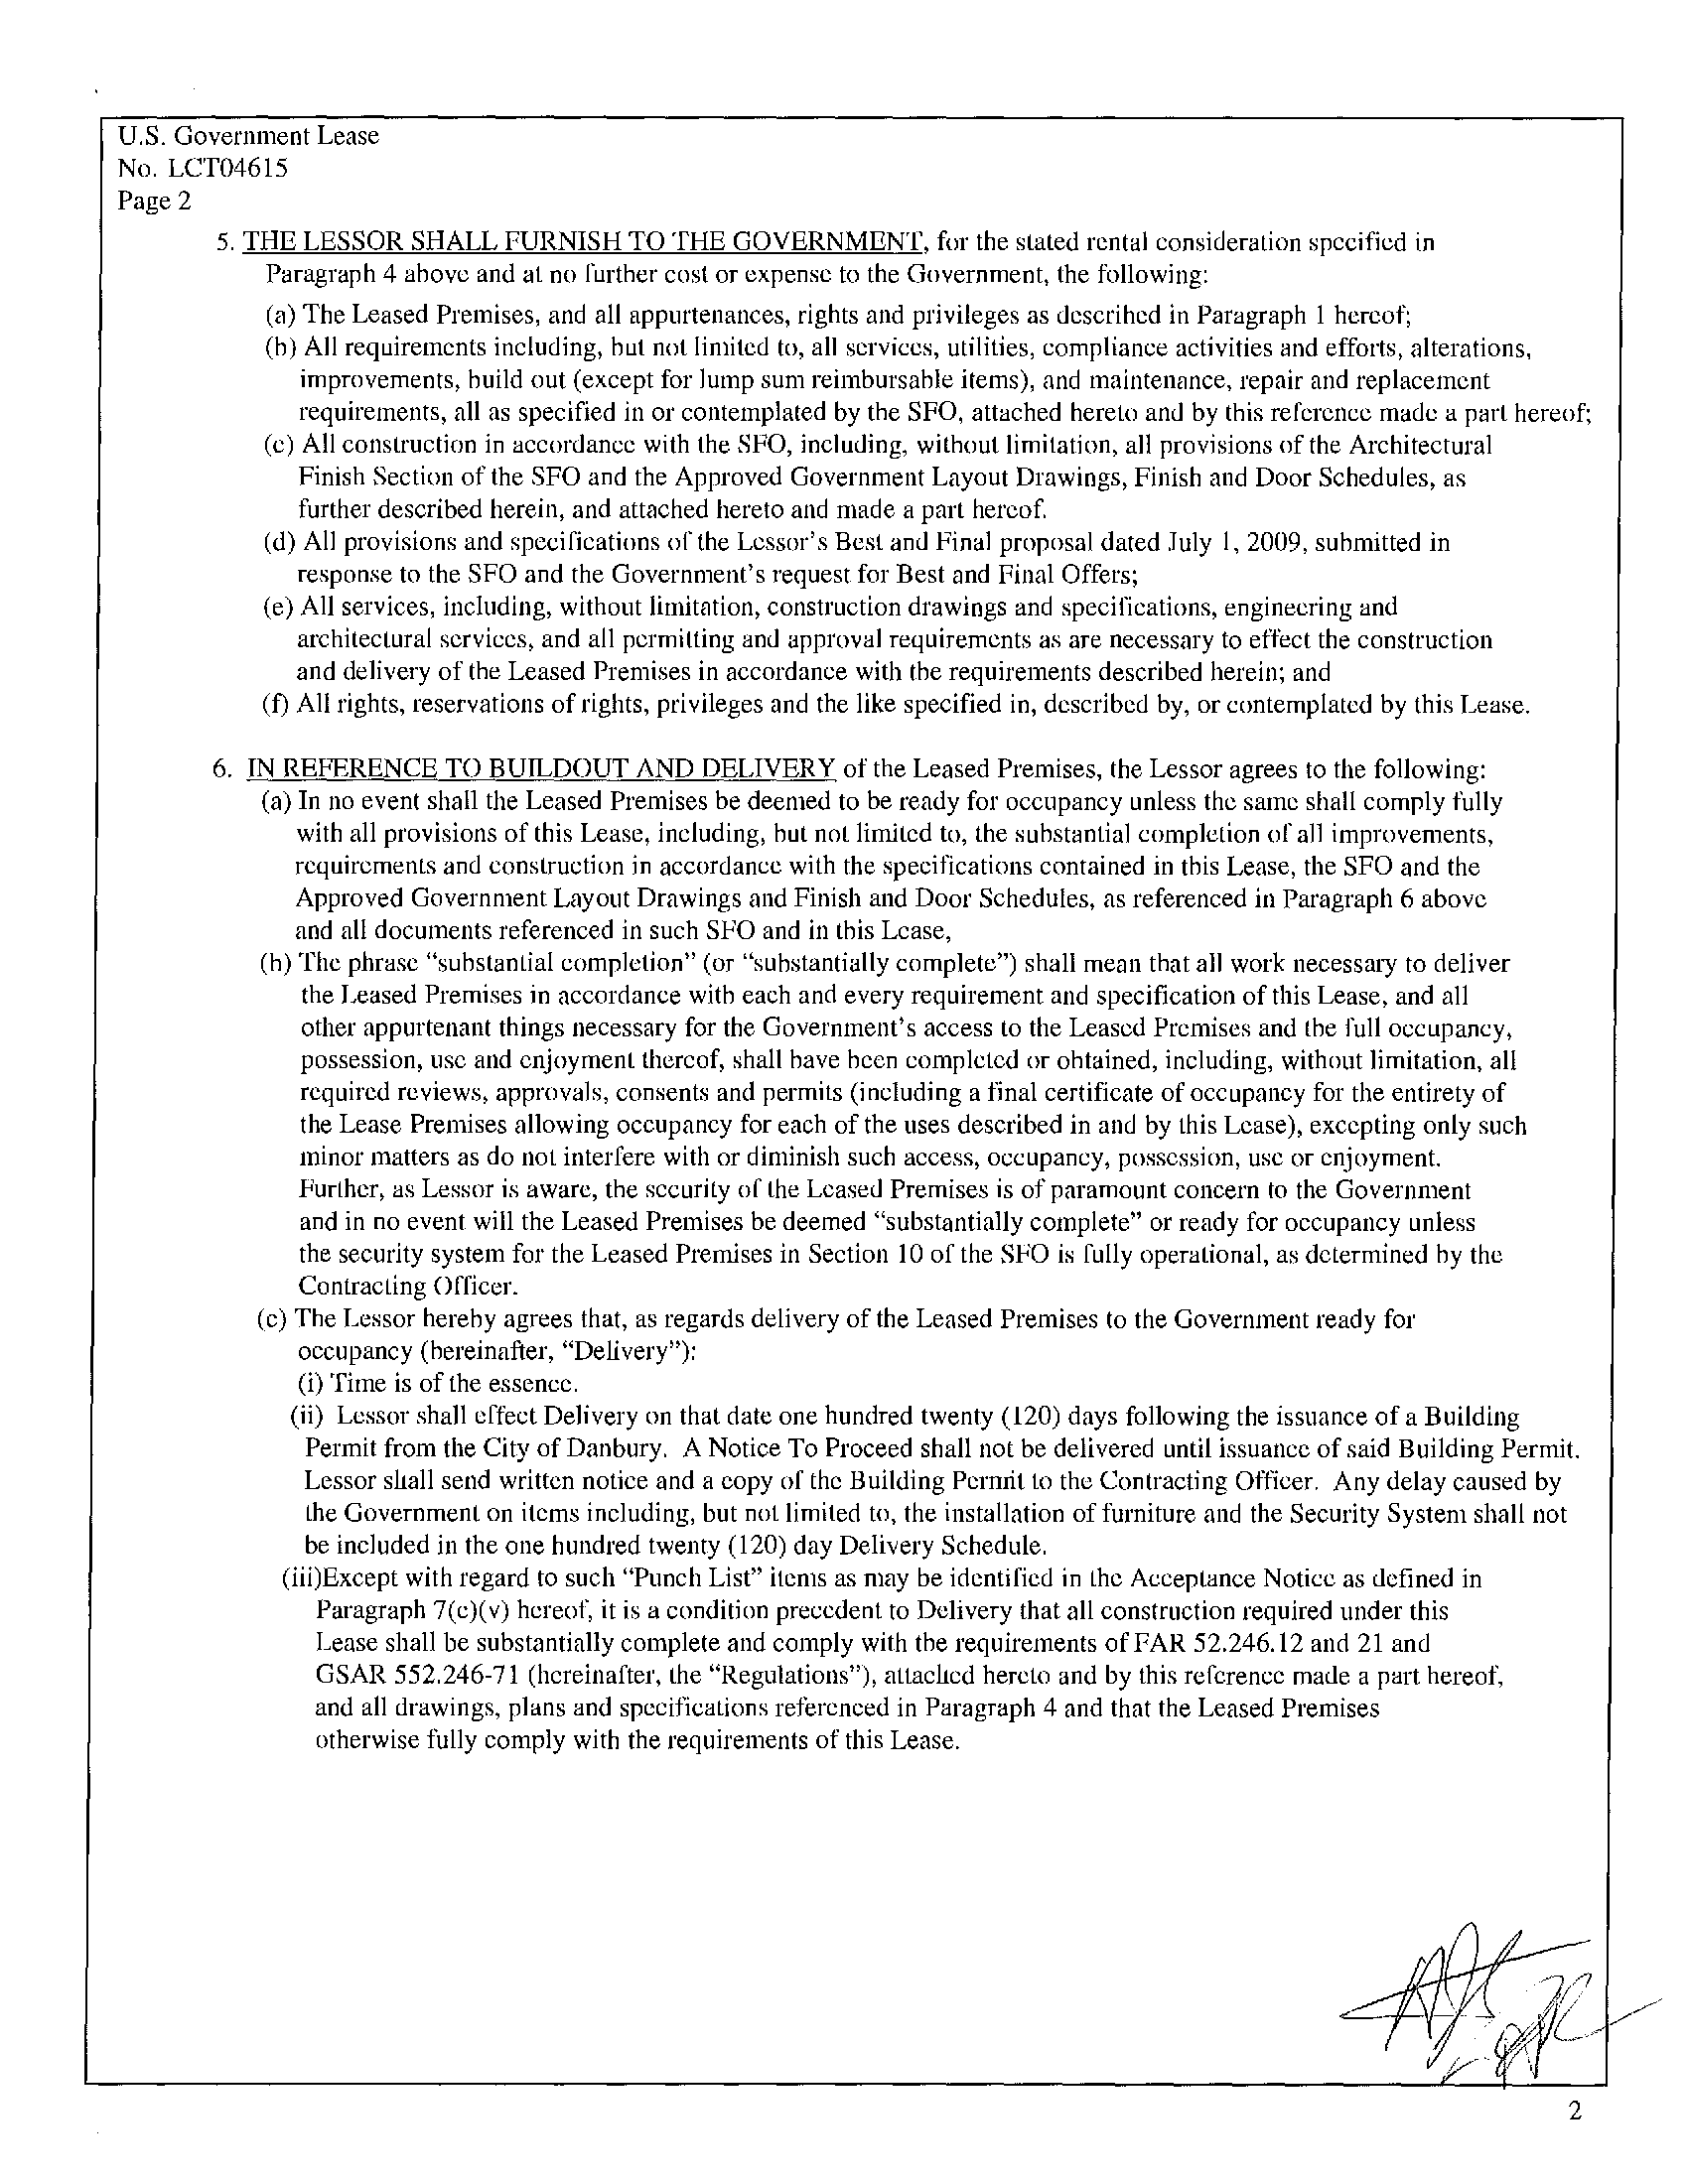handwritten: (1333, 1884, 1596, 2081)
